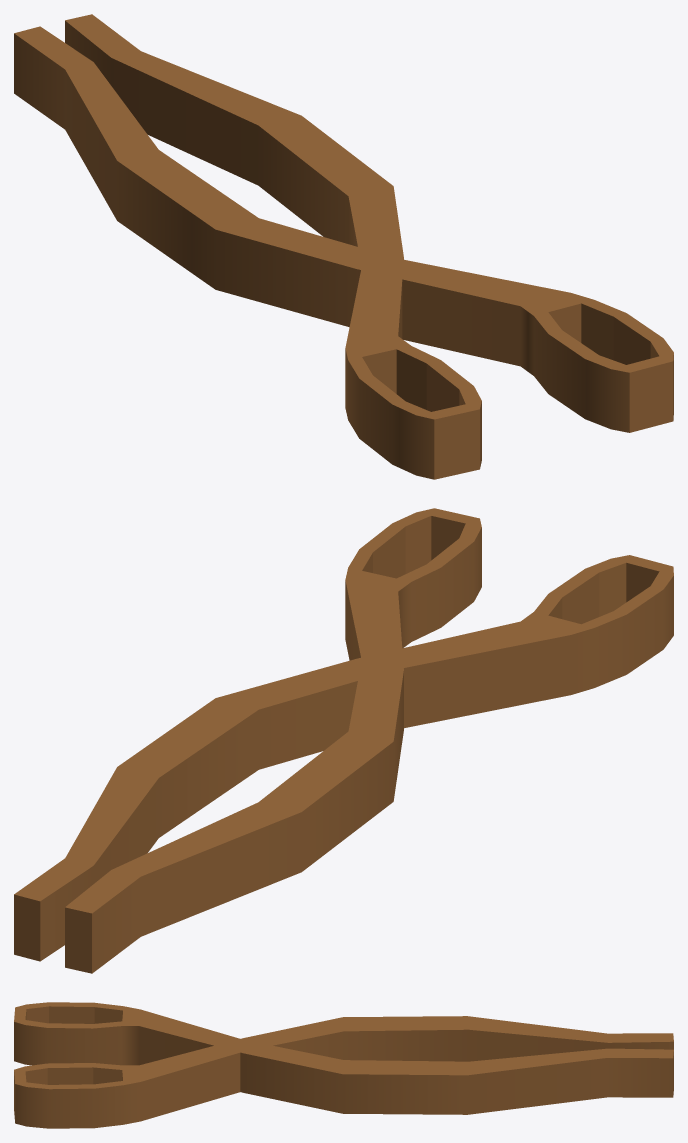
Rendered from Tong.fbx.
3 renders of one model, top to bottom at view 1: azimuth 30°, elevation 25°; view 2: azimuth 150°, elevation 25°; view 3: azimuth 270°, elevation 25°, orthographic. The views are drawn at different scales.
Visible parts, largest first — view 1: Tong; view 2: Tong; view 3: Tong.
Boxes of the visible parts, x1,y1,x2,y2 form: Tong: [14, 14, 673, 479]; Tong: [14, 508, 673, 973]; Tong: [14, 1002, 673, 1128].
Bounding box in the file's own units: 10.48 × 2.22 × 33.61.
